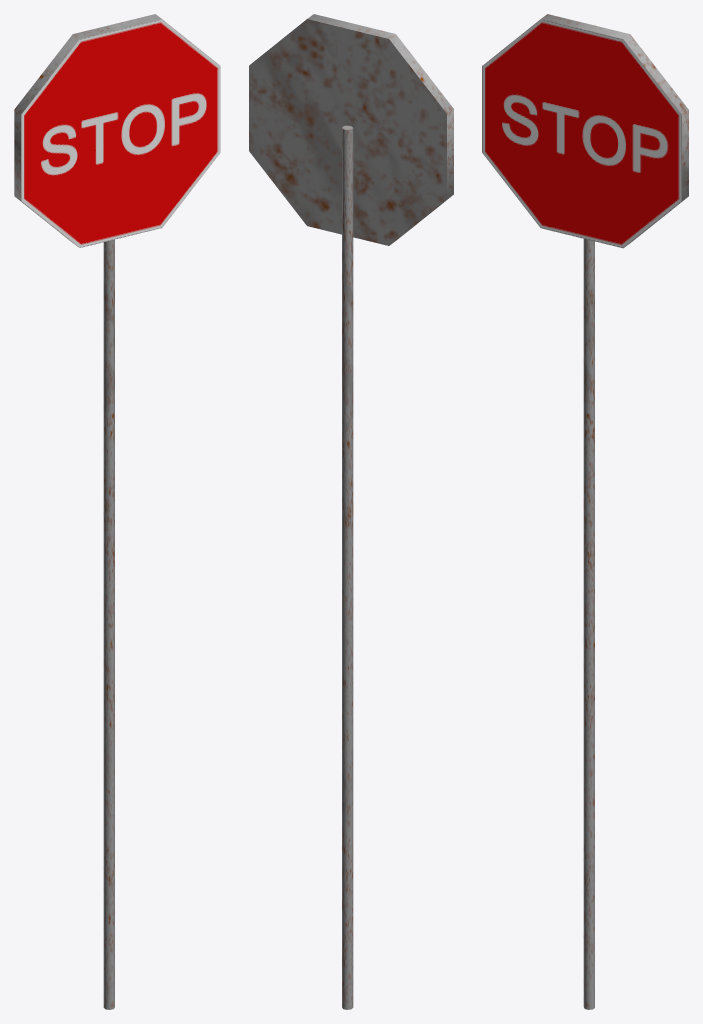
The model's file is aws_StopSign_01_visual.DAE.
The picture shows the model from 3 angles, left to right: view 1: azimuth 30°, elevation 25°; view 2: azimuth 150°, elevation 25°; view 3: azimuth 330°, elevation 25°; orthographic projection.
Parts seen in each view (by area): view 1: aws_GuideBoard_01_visual; view 2: aws_GuideBoard_01_visual; view 3: aws_GuideBoard_01_visual.
Part boxes in pixels (x1=…): aws_GuideBoard_01_visual: x1=14, y1=14, x2=220, y2=1009; aws_GuideBoard_01_visual: x1=249, y1=14, x2=453, y2=1009; aws_GuideBoard_01_visual: x1=482, y1=14, x2=688, y2=1009.
Bounding box in the file's own units: 40.34 × 4.23 × 190.
Materials: 1 (1 with a texture image).
